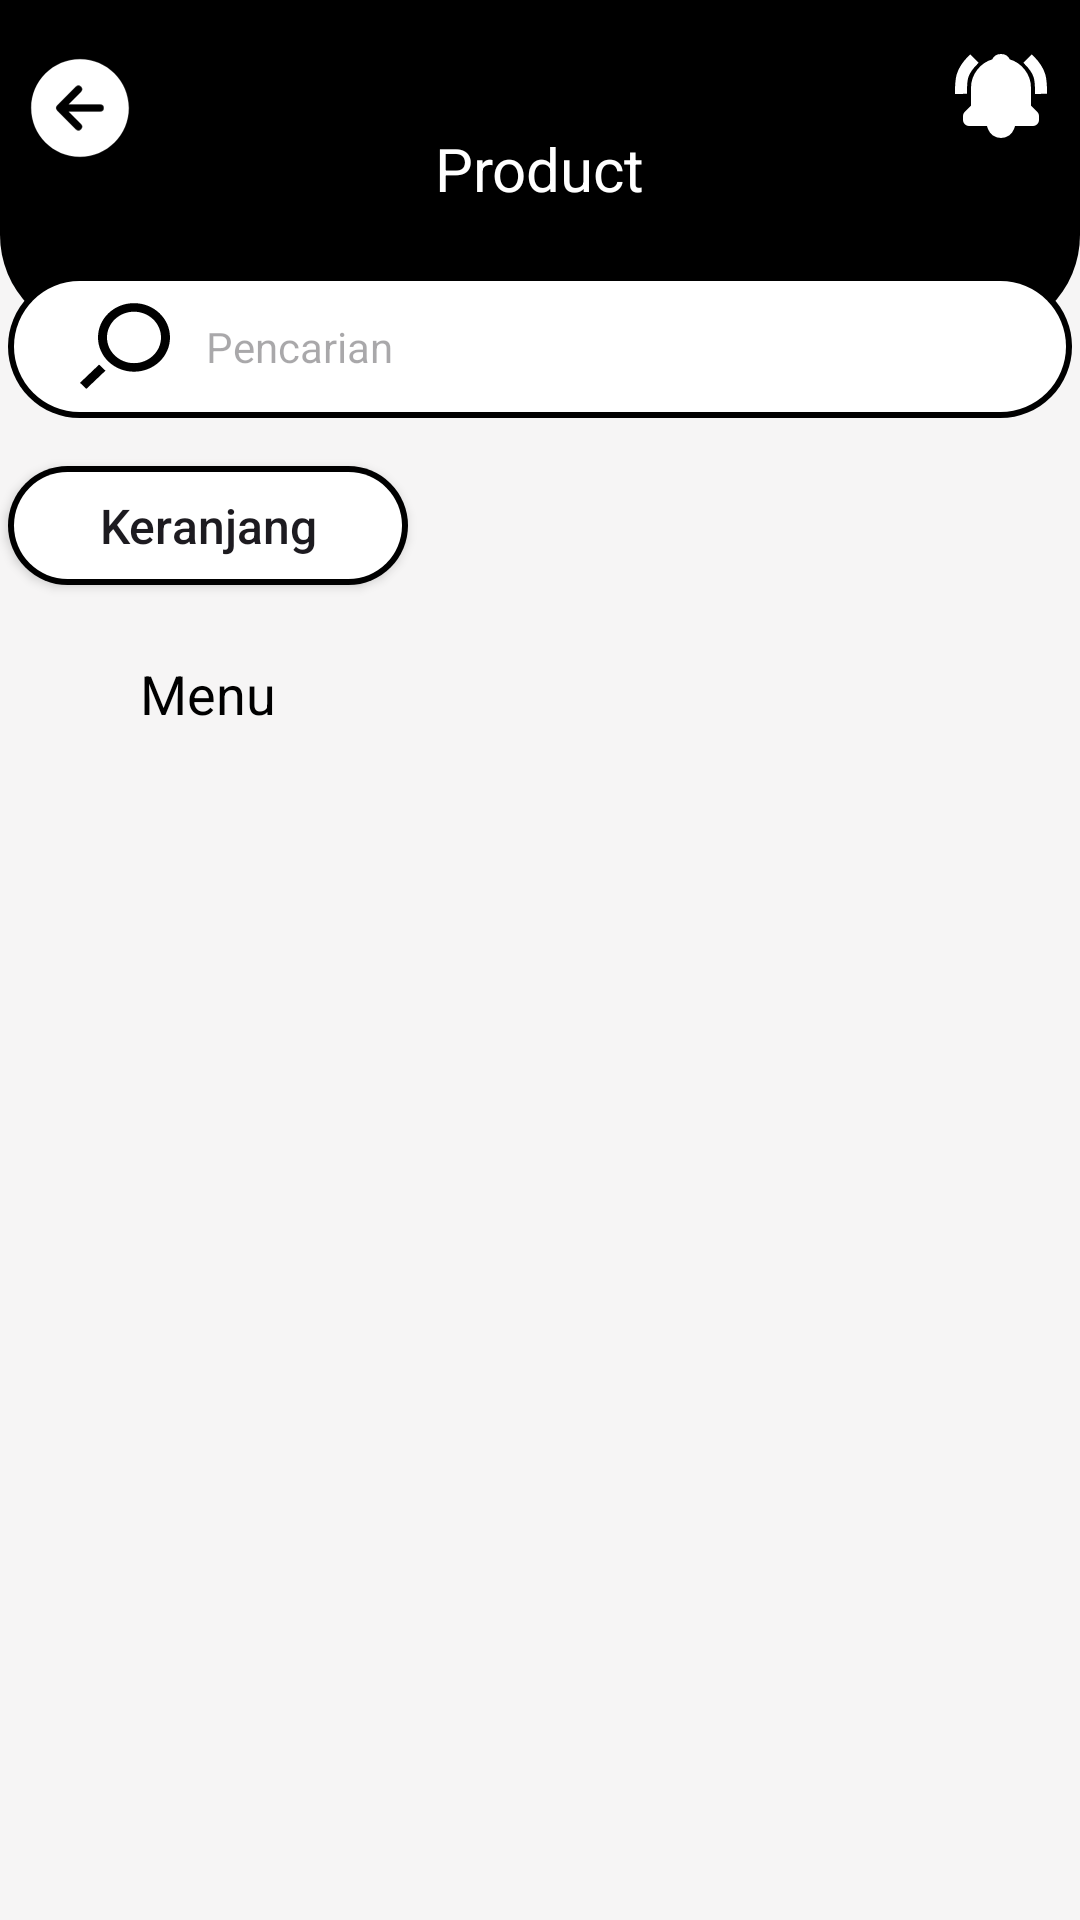

Icon click points for this 1080 × 1920 phone screenshot, format point (x, y):
arrow back circle: point (80, 108)
bell ring: point (1001, 96)
